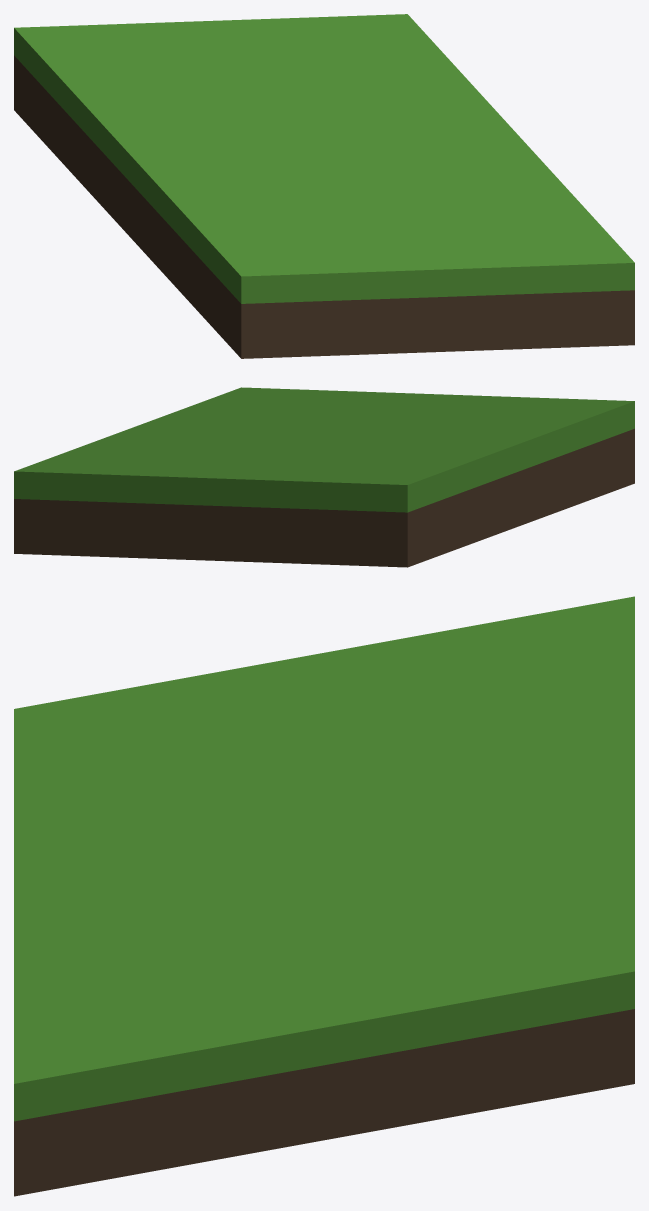
Rendered from tiles-tile-hill-askew.glb.
3 renders of one model, top to bottom at view 1: azimuth 30°, elevation 25°; view 2: azimuth 150°, elevation 25°; view 3: azimuth 270°, elevation 25°, orthographic. The views are drawn at different scales.
Parts seen in each view (by area): view 1: tile-hill-askew; view 2: tile-hill-askew; view 3: tile-hill-askew.
Boxes of the visible parts, x1,y1,x2,y2 form: tile-hill-askew: (14, 14, 634, 358); tile-hill-askew: (14, 387, 634, 567); tile-hill-askew: (14, 596, 634, 1196).
Size of the model in its own units: 30 by 18 by 30.
